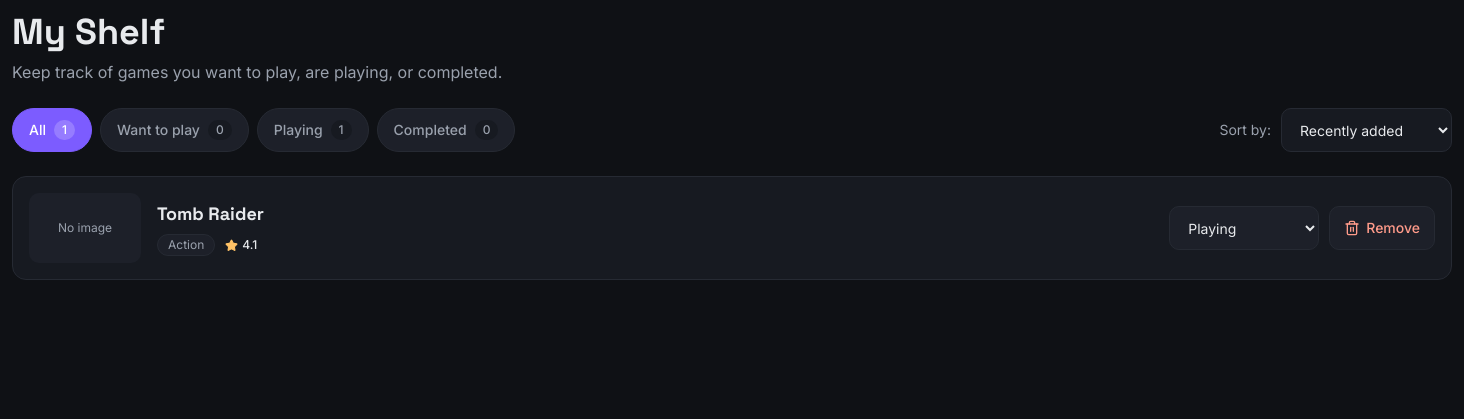
MyShelf › displays saved games and removes a game when Remove is clicked
The width and height of the screenshot is (1464, 419).
Expected: the link "Tomb Raider" is shown, [157, 200, 264, 228]
Click the button "Remove": point(1382, 228) [1329, 206, 1435, 250]
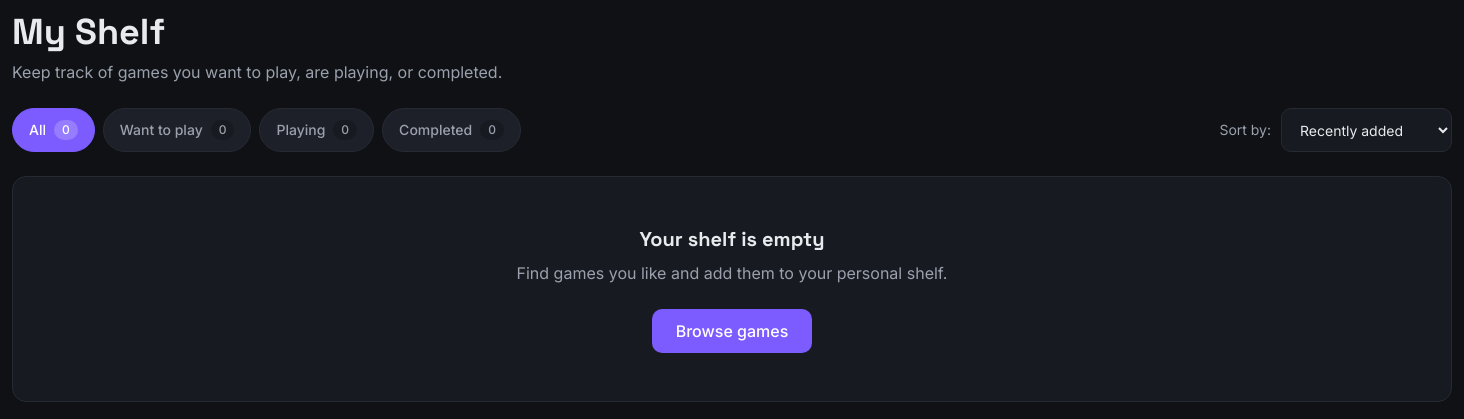
Expected: the link "Tomb Raider" is gone
Expected: the heading "Your shelf is empty" is shown, [639, 226, 824, 252]
